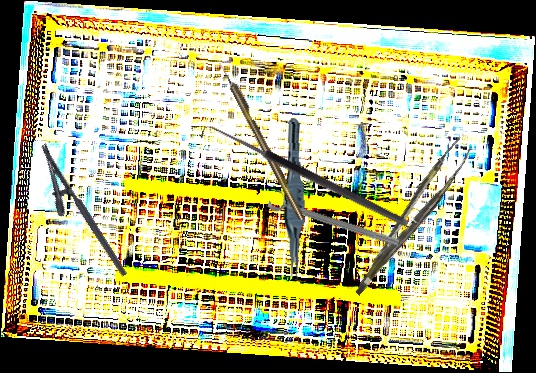Fixation Ring: (266, 186, 404, 251)
Hook Surgical: (199, 120, 410, 238), (216, 58, 307, 223)
Needle Holder: (21, 142, 129, 289)
Tissue Forceps: (337, 136, 482, 296), (278, 118, 309, 282)
